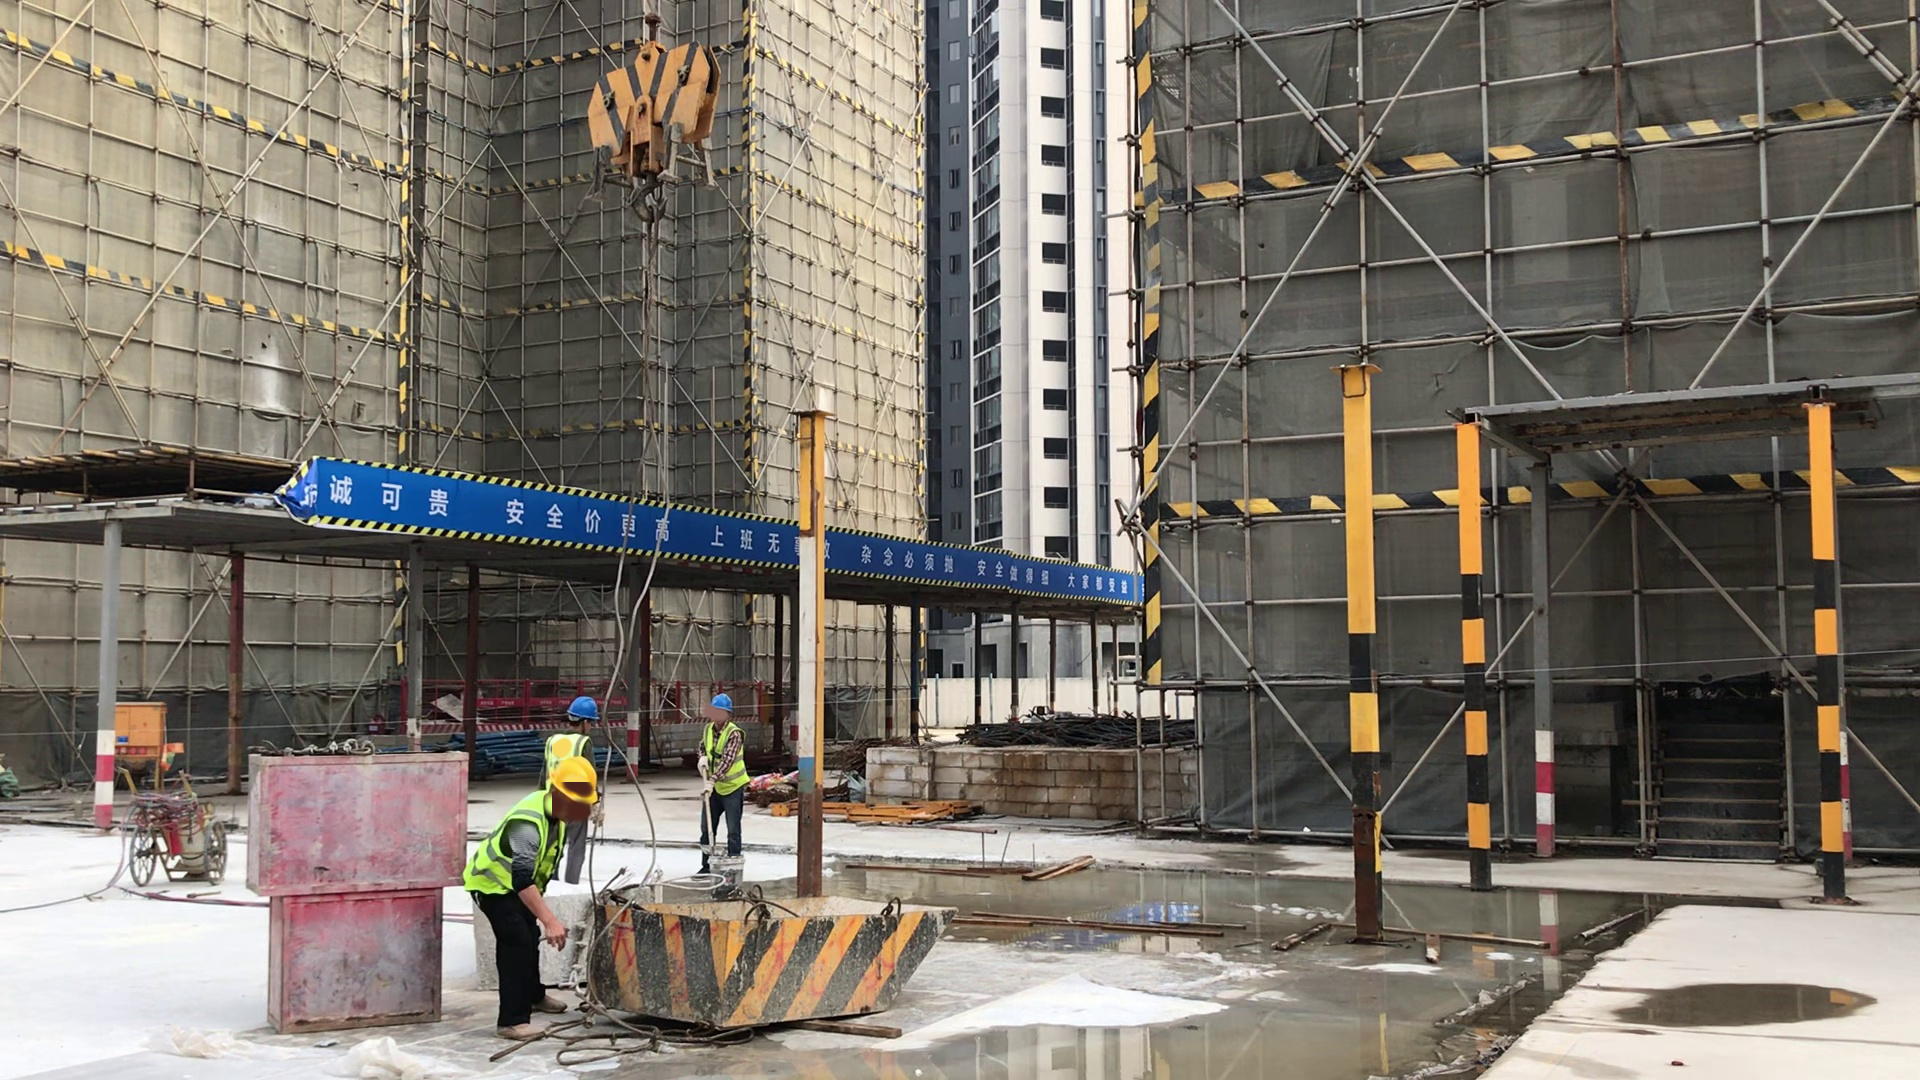ebox: (116, 692, 171, 795)
fence: (487, 677, 562, 731), (734, 682, 771, 724), (676, 679, 702, 725)
handcart: (115, 764, 229, 891)
helmet: (548, 758, 598, 804), (565, 695, 599, 723), (710, 693, 732, 713)
hook: (560, 8, 725, 226)
hopper: (593, 879, 970, 1030)
person: (463, 756, 595, 1048), (540, 693, 612, 886), (690, 691, 748, 883)
slogan: (314, 460, 795, 571), (828, 531, 1143, 605)
vest: (464, 791, 565, 895), (703, 721, 749, 798), (542, 730, 589, 760)
